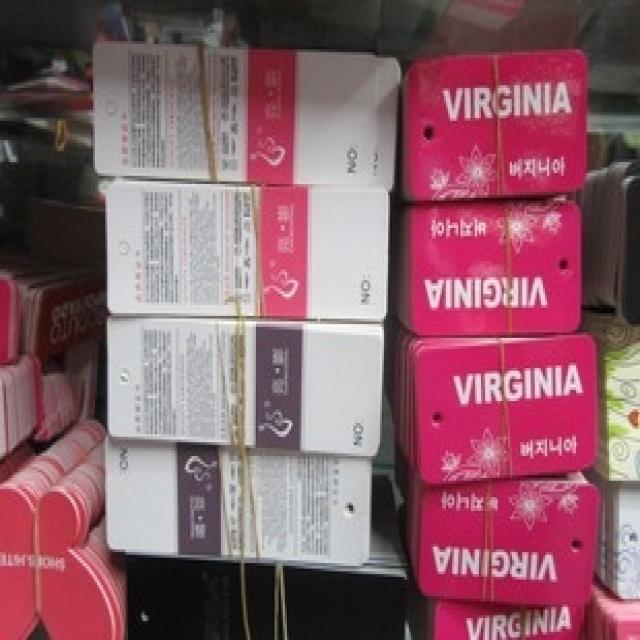box: (91, 38, 398, 195), (105, 181, 388, 321), (109, 313, 386, 456), (392, 418, 605, 602), (386, 316, 597, 483), (105, 439, 374, 566), (398, 49, 586, 206), (390, 198, 578, 330)
